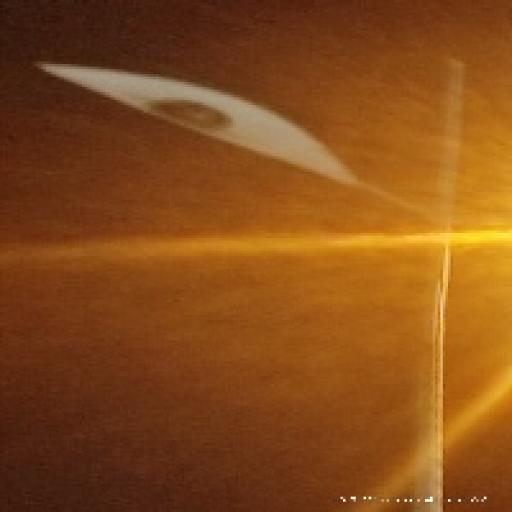Not Working: (31, 35, 377, 197)
